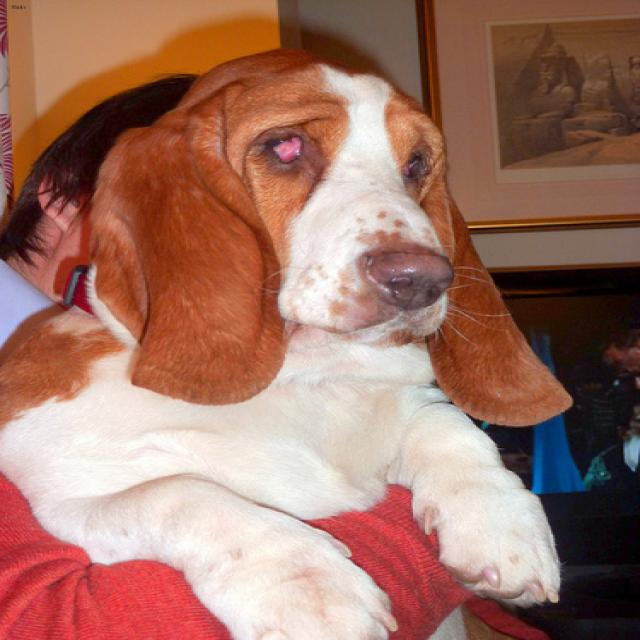dog-basset_hound: (2, 41, 587, 637)
